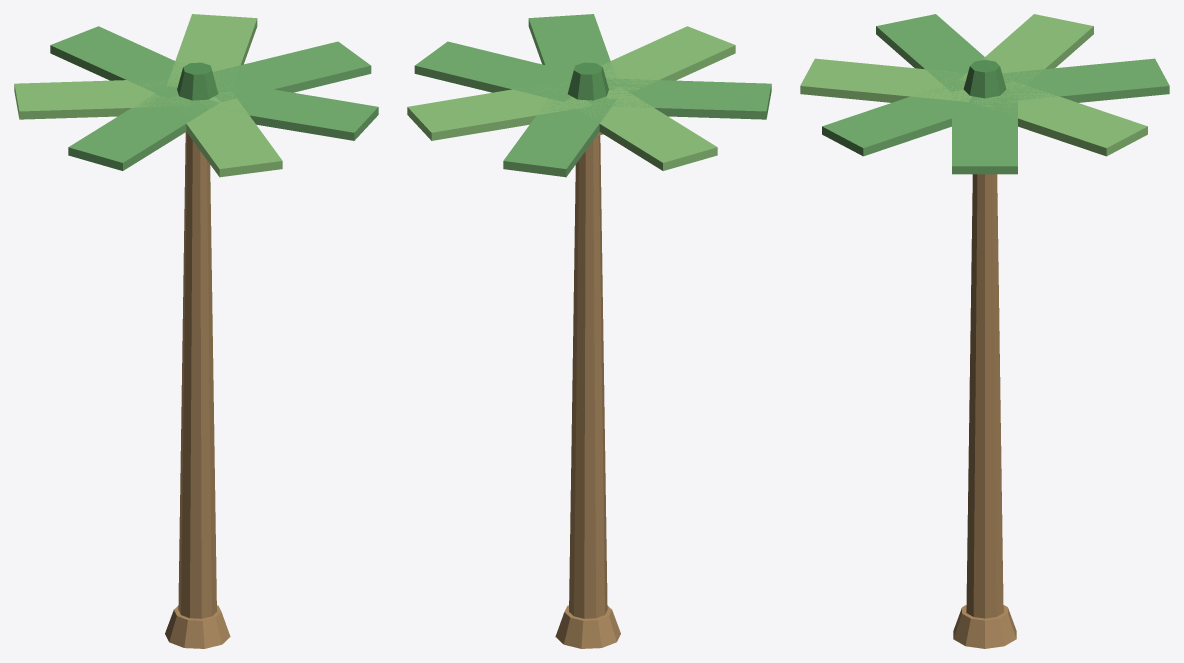
The model's file is gg-clay-palm.glb.
3 views of the same model, side by side, from view 1: azimuth 30°, elevation 25°; view 2: azimuth 150°, elevation 25°; view 3: azimuth 270°, elevation 25° (orthographic).
Visible parts, largest first — view 1: PalmA_Trunk.001, PalmA_Frond_4.001, PalmA_Frond_0.001, PalmA_Frond_3.001, PalmA_Frond_5.001, PalmA_Frond_2.001, PalmA_Frond_6.001, PalmA_Frond_1.001, PalmA_Base.001, PalmA_Heart.001; view 2: PalmA_Trunk.001, PalmA_Frond_3.001, PalmA_Frond_0.001, PalmA_Frond_4.001, PalmA_Frond_1.001, PalmA_Frond_2.001, PalmA_Frond_5.001, PalmA_Frond_6.001, PalmA_Base.001, PalmA_Heart.001; view 3: PalmA_Trunk.001, PalmA_Frond_1.001, PalmA_Frond_2.001, PalmA_Frond_5.001, PalmA_Frond_0.001, PalmA_Frond_6.001, PalmA_Frond_4.001, PalmA_Frond_3.001, PalmA_Base.001, PalmA_Heart.001.
Part boxes in pixels (<box>): PalmA_Trunk.001: <box>178,132,216,618</box>; PalmA_Frond_4.001: <box>68,87,219,170</box>; PalmA_Frond_0.001: <box>212,41,371,101</box>; PalmA_Frond_3.001: <box>14,79,190,119</box>; PalmA_Frond_5.001: <box>169,91,282,177</box>; PalmA_Frond_2.001: <box>50,26,183,98</box>; PalmA_Frond_6.001: <box>201,84,378,140</box>; PalmA_Frond_1.001: <box>166,14,257,89</box>; PalmA_Base.001: <box>165,605,230,648</box>; PalmA_Heart.001: <box>177,62,218,100</box>; PalmA_Trunk.001: <box>569,135,607,618</box>; PalmA_Frond_3.001: <box>567,87,717,170</box>; PalmA_Frond_0.001: <box>414,41,572,101</box>; PalmA_Frond_4.001: <box>594,78,771,119</box>; PalmA_Frond_1.001: <box>407,81,591,140</box>; PalmA_Frond_2.001: <box>503,92,616,177</box>; PalmA_Frond_5.001: <box>601,26,735,97</box>; PalmA_Frond_6.001: <box>528,14,619,89</box>; PalmA_Base.001: <box>555,605,620,648</box>; PalmA_Heart.001: <box>567,62,608,100</box>; PalmA_Trunk.001: <box>966,174,1003,618</box>; PalmA_Frond_1.001: <box>972,81,1147,156</box>; PalmA_Frond_2.001: <box>998,58,1169,102</box>; PalmA_Frond_5.001: <box>800,58,971,102</box>; PalmA_Frond_0.001: <box>952,93,1017,174</box>; PalmA_Frond_6.001: <box>822,82,994,156</box>; PalmA_Frond_4.001: <box>876,14,1008,91</box>; PalmA_Frond_3.001: <box>959,14,1093,91</box>; PalmA_Base.001: <box>953,605,1016,648</box>; PalmA_Heart.001: <box>963,60,1006,98</box>.
Bounding box in the file's own units: 2.39 × 4.16 × 2.45.
